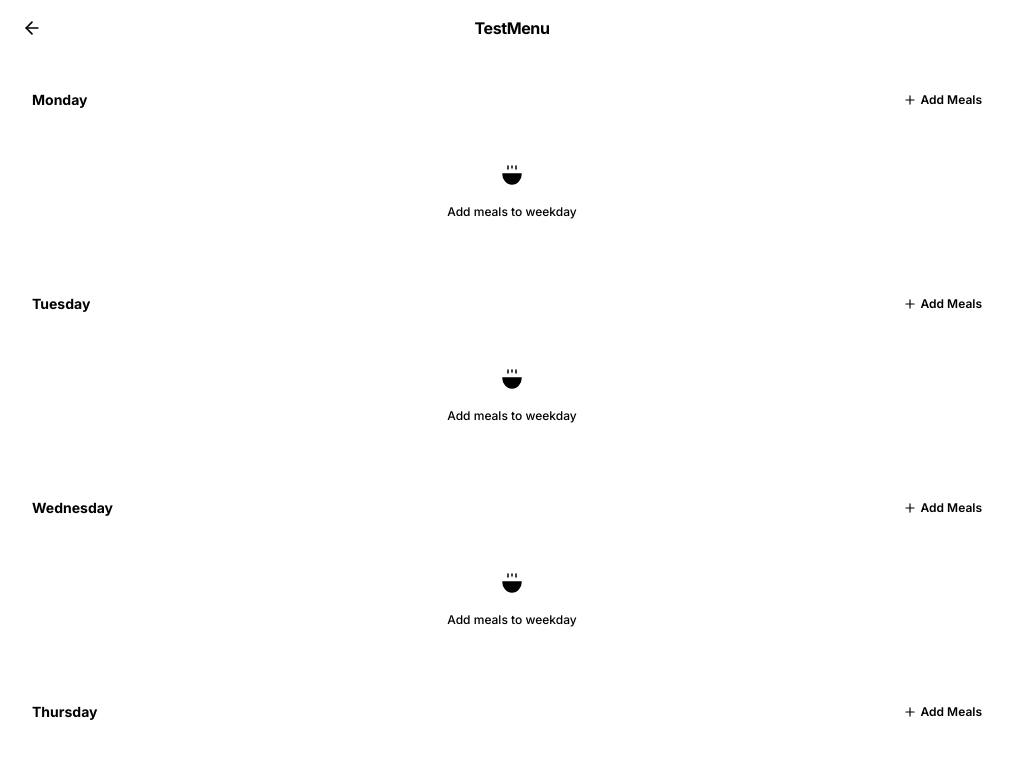
Scenario: AddMenu Component › allows selecting meals for a day
Click the button "Add Meals" in the row of "Monday". click: [942, 100]
box: [892,88,992,112]
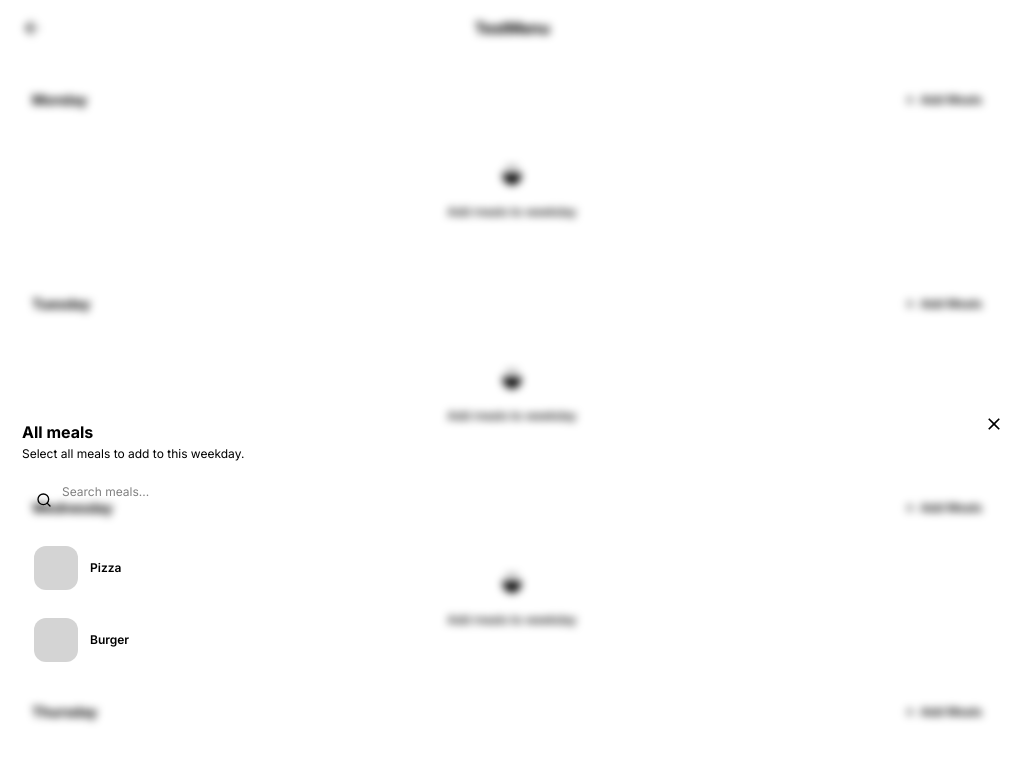
Expected: the heading "All meals" is shown, [22,422,93,442]
Click the button "Pizza". click: [56, 568]
box: [22,534,1002,602]
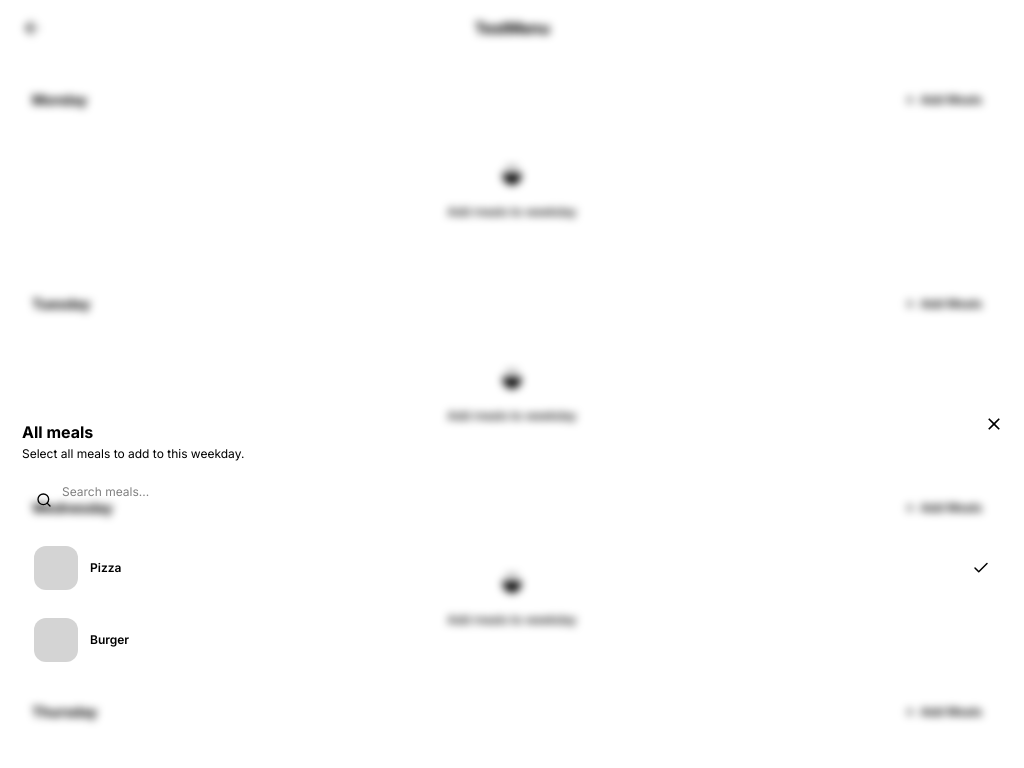
Click the button "Add". click: [512, 724]
box: [22,702,1002,746]
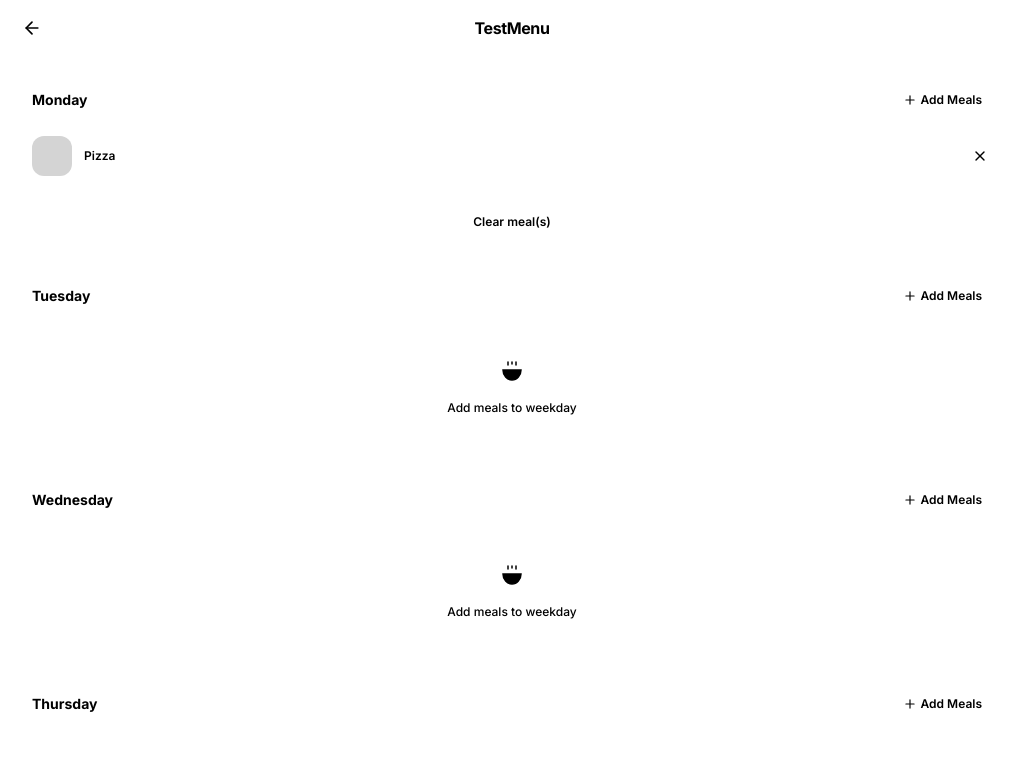
Expected: the text "Pizza" is shown, [84,148,115,164]
Expected: the heading "All meals" is gone
